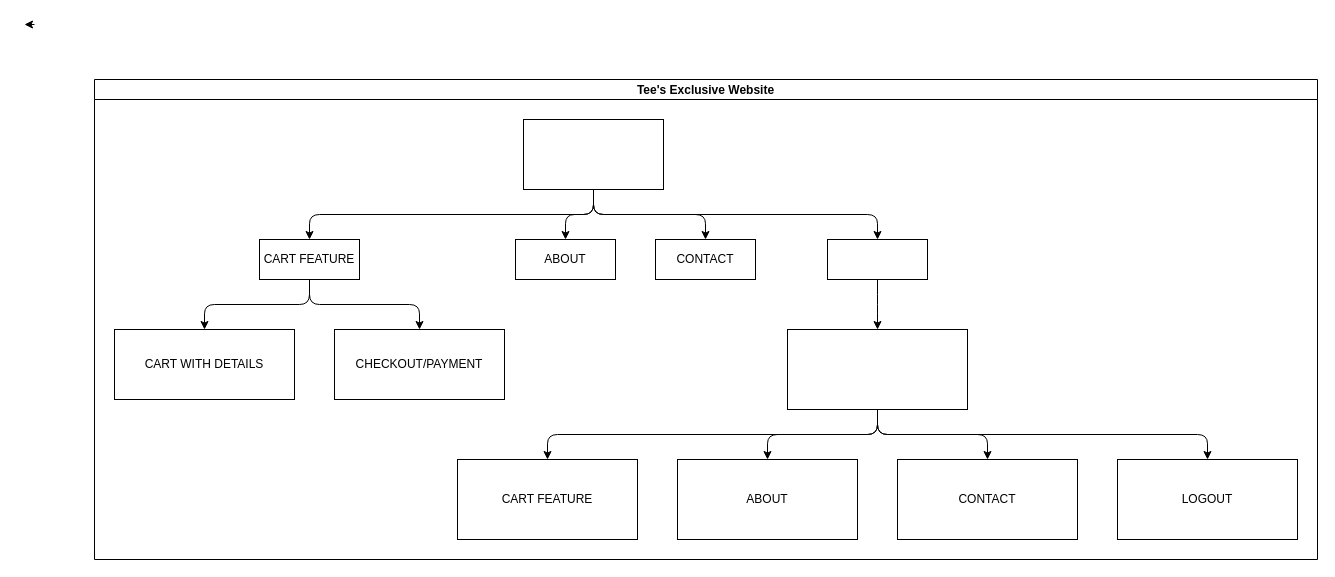
This 1335x577 diagram has some shape labels left out. Each missing label, with the centre of its shape:
HOMEPAGE(LOGGED IN): the point at 877,369
HOMEPAGE(NOT LOGGED IN): the point at 593,154
SIGNUP/LOGIN: the point at 877,259
